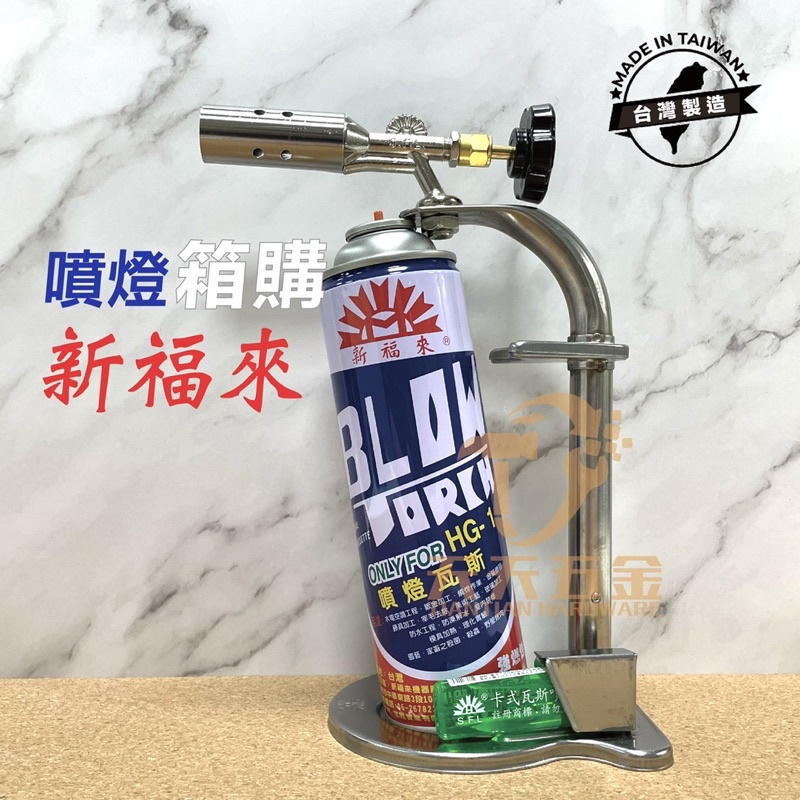gastorch: (196, 104, 678, 771)
